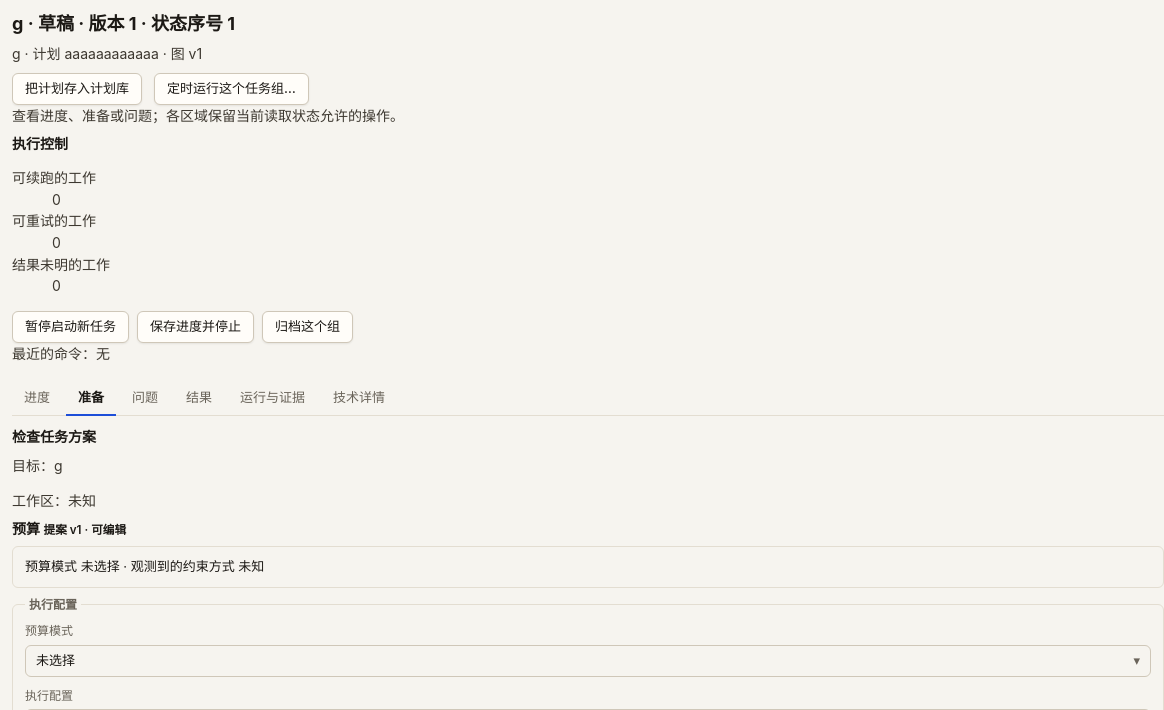
Test: a withdrawn estimate (spec correction 2026-10-20) › shows the state and the reason in Chinese
Click the tab "技术详情": click(359, 399) 321,381 -> 397,416
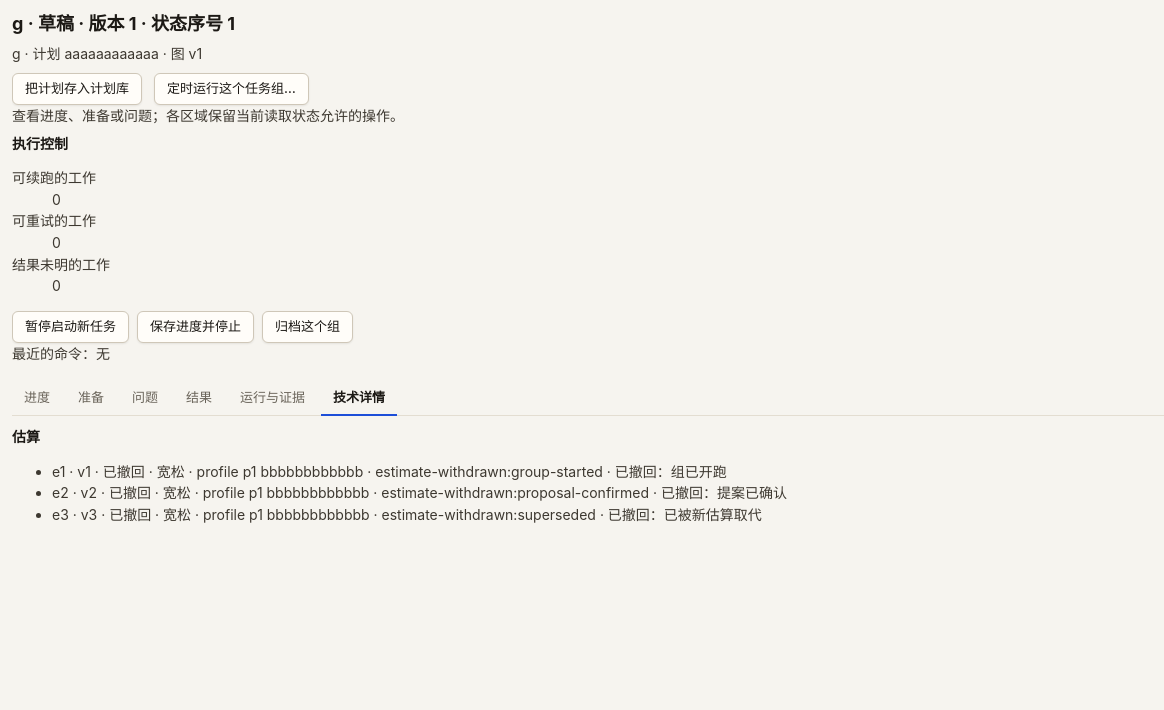
Check: the text "v1 · 已撤回 ·" is shown, box 52,462 -> 363,480
Check: the text "已撤回：组已开跑" is shown, box 603,462 -> 727,480
Check: the text "已撤回：提案已确认" is shown, box 649,484 -> 787,501
